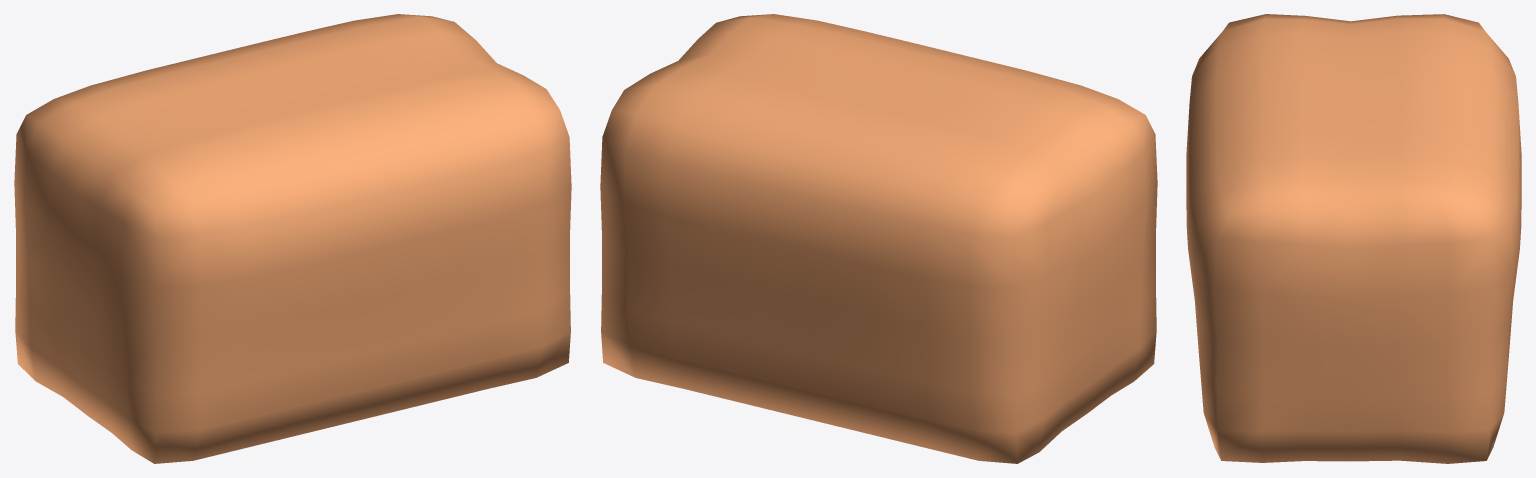
File: candy_assets50.fbx
The picture shows the model from 3 angles, left to right: view 1: azimuth 30°, elevation 25°; view 2: azimuth 150°, elevation 25°; view 3: azimuth 270°, elevation 25°; orthographic projection. The views are drawn at different scales.
Parts seen in each view (by area): view 1: candy_assets50; view 2: candy_assets50; view 3: candy_assets50.
Part boxes in pixels (left/top/right/bottom): candy_assets50: left=14, top=14, right=571, bottom=463; candy_assets50: left=600, top=14, right=1157, bottom=463; candy_assets50: left=1186, top=14, right=1521, bottom=463.
Bounding box in the file's own units: 750 × 458 × 500.
Materials: 1 (1 with a texture image).
